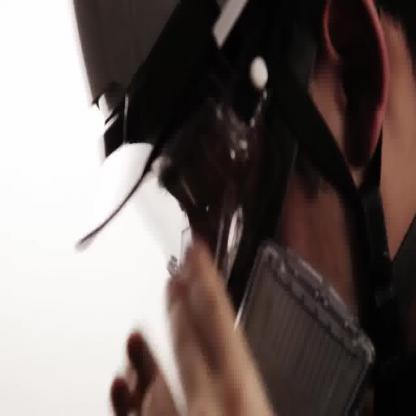goggles: (167, 40, 272, 296)
mask: (228, 234, 379, 415)
